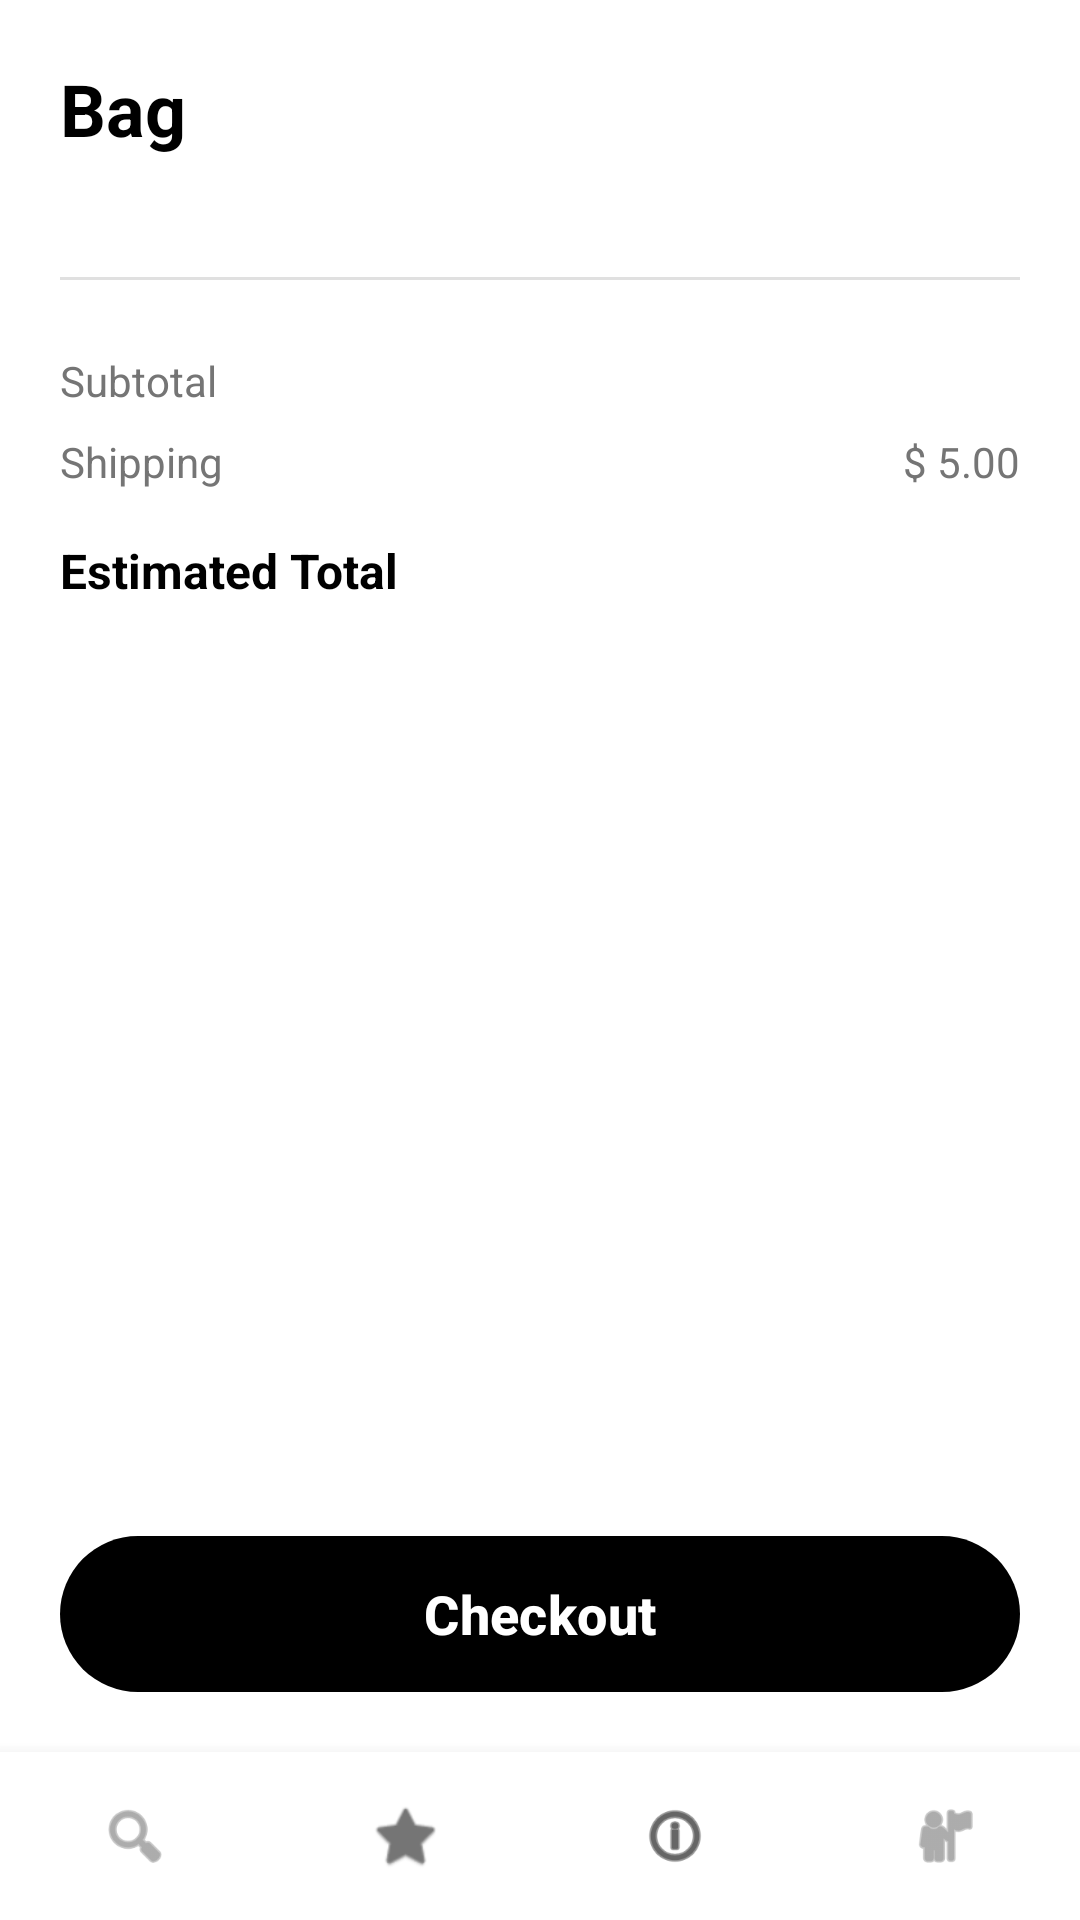

Icons on this 1080 × 1920 Android screen, each with its box as (x1, y1, x2, y2):
info details: (649, 1810, 701, 1862)
myplaces: (919, 1809, 973, 1863)
search: (109, 1810, 161, 1863)
star: (376, 1808, 435, 1865)
